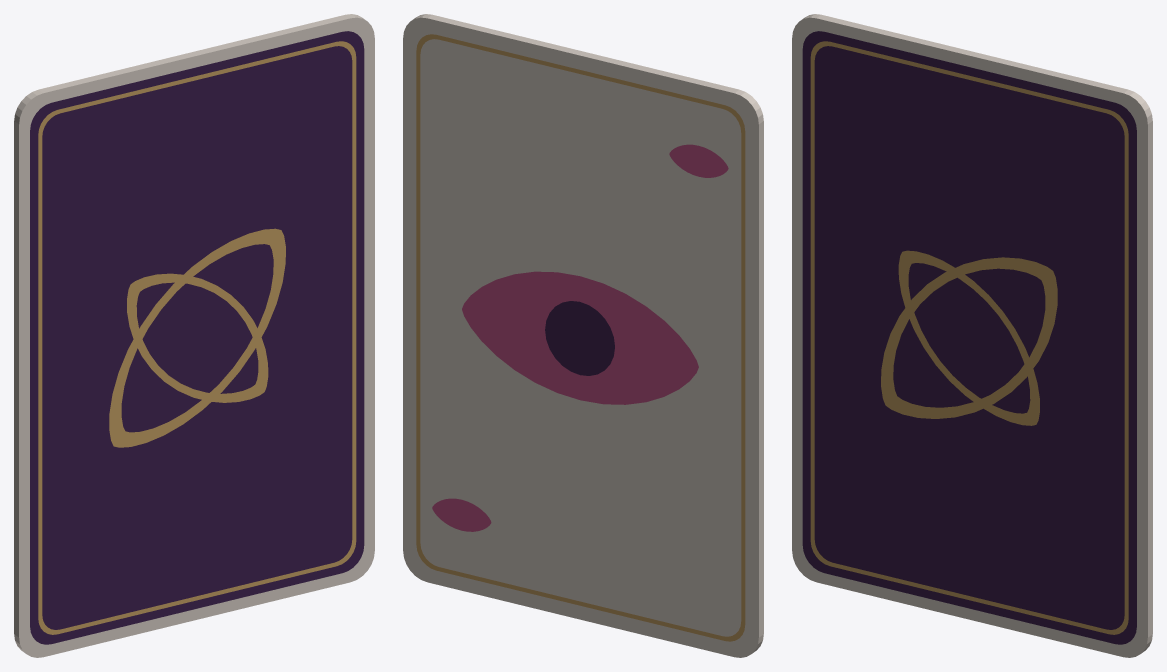
The model's file is card-lens.glb.
3 renders of one model, left to right at view 1: azimuth 30°, elevation 25°; view 2: azimuth 150°, elevation 25°; view 3: azimuth 330°, elevation 25°, orthographic.
Visible parts, largest first — view 1: card_lens; view 2: card_lens; view 3: card_lens.
Part boxes in pixels (x1,y1,x2,y2): card_lens: (14,14,374,657); card_lens: (403,14,763,657); card_lens: (792,14,1152,657).
Bounding box in the file's own units: 0.66 × 1 × 0.021.
